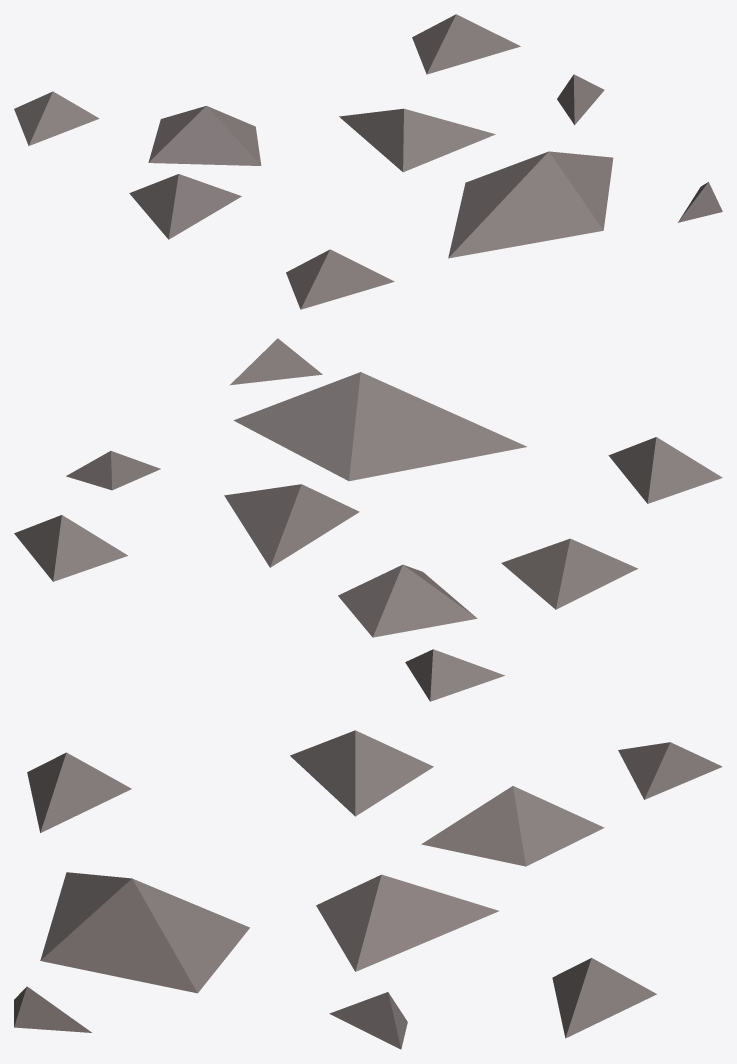
3 renders of one model, top to bottom at view 1: azimuth 30°, elevation 25°; view 2: azimuth 150°, elevation 25°; view 3: azimuth 270°, elevation 25°, orthographic. The views are drawn at different scales.
Size of the model in its own units: 108 by 12 by 108.
1 material, 1 textured.
